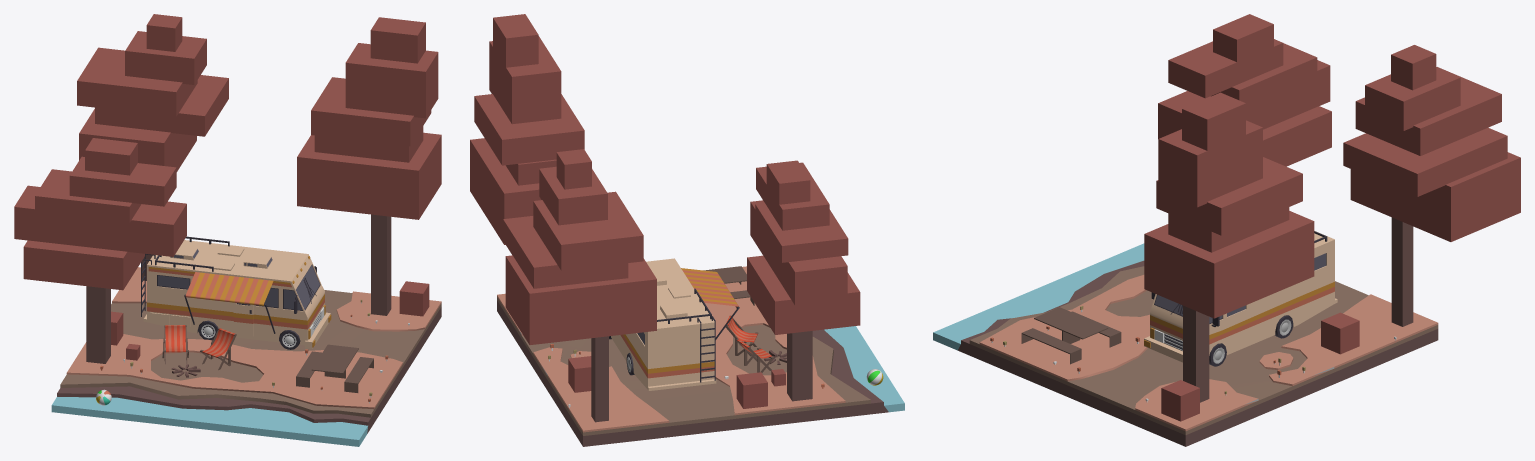
Rendered from camp_site_03.glb.
3 views of the same model, side by side, from view 1: azimuth 30°, elevation 25°; view 2: azimuth 150°, elevation 25°; view 3: azimuth 270°, elevation 25° (orthographic). The views are drawn at different scales.
Visible parts, largest first — view 1: tree square, base, camper, picknick table, bushes, chairs; view 2: tree square, base, camper, bushes, chairs, picknick table; view 3: tree square, base, camper, bushes, picknick table.
Boxes of the visible parts, x1,y1,x2,y2 form: tree square: (14,14,441,363); base: (51,267,441,446); camper: (141,236,331,349); picknick table: (296,344,373,392); bushes: (111,281,429,360); chairs: (162,325,236,370); tree square: (470,14,860,422); base: (497,266,904,446); camper: (609,258,739,390); bushes: (568,356,785,408); chairs: (725,315,774,372); picknick table: (703,266,754,305); tree square: (1144,14,1520,402); base: (933,243,1438,446); camper: (1144,231,1337,366); bushes: (1161,312,1359,421); picknick table: (1021,307,1121,364).
Size of the model in its own units: 1.46 by 1 by 1.65.
